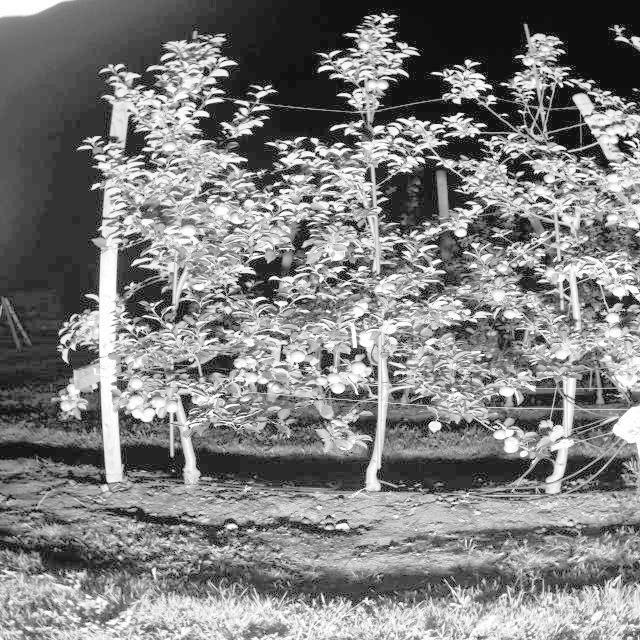Tree: (281, 21, 460, 490), (123, 43, 273, 482), (493, 35, 598, 495)
